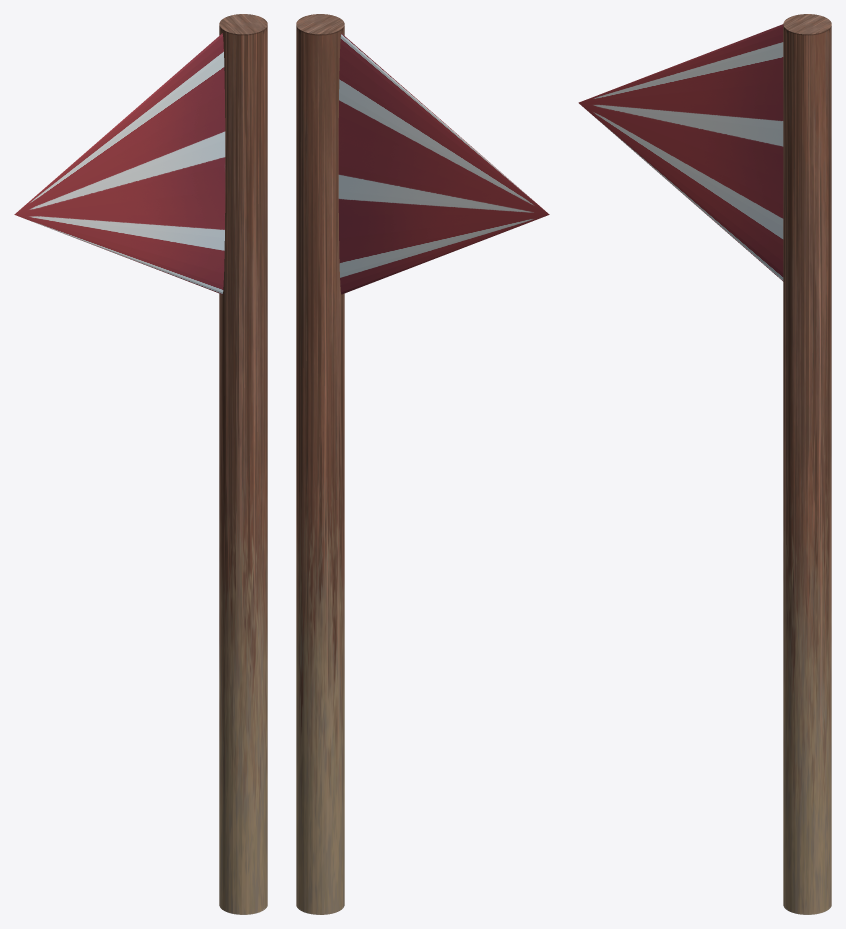
File: GoalUp.obj
3 renders of one model, left to right at view 1: azimuth 30°, elevation 25°; view 2: azimuth 150°, elevation 25°; view 3: azimuth 330°, elevation 25°, orthographic.
Parts seen in each view (by area): view 1: 円柱; view 2: 円柱; view 3: 円柱.
Part boxes in pixels (x1,y1,x2,y2): 円柱: (14,14,267,914); 円柱: (296,14,549,914); 円柱: (578,14,831,914).
Bounding box in the file's own units: 0.5953 × 2 × 0.1.
1 material, 1 textured.
